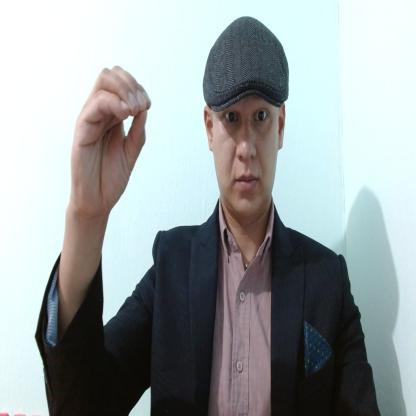O: (69, 65, 152, 212)
